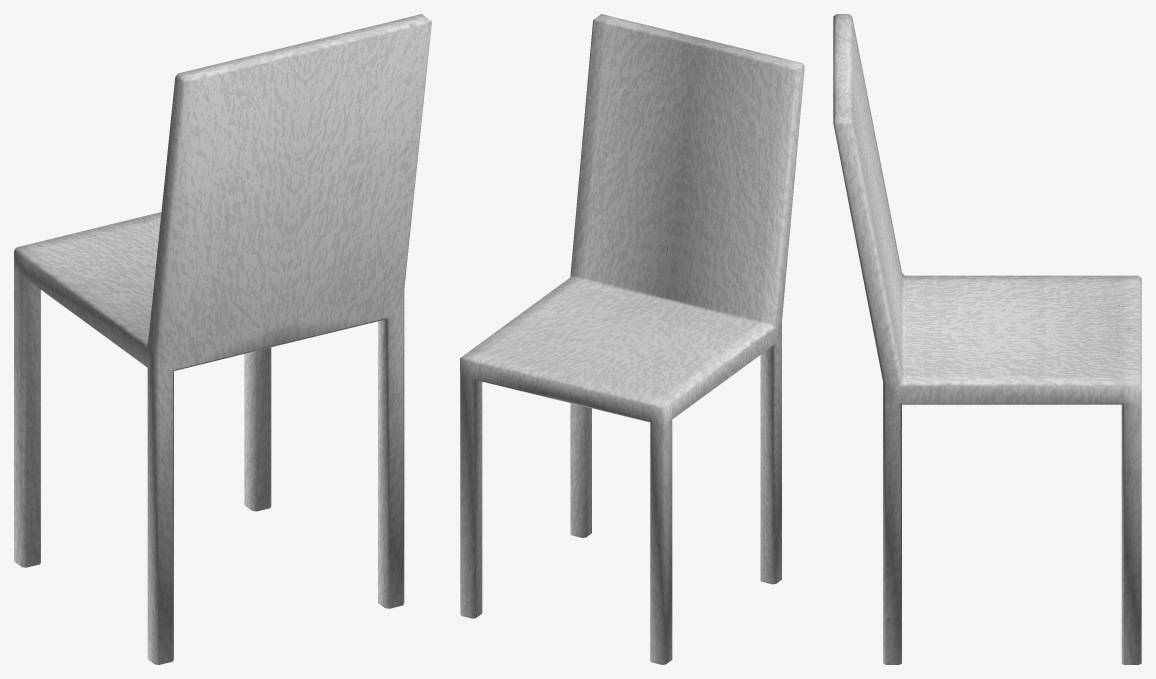
File: Chair01.fbx
3 renders of one model, left to right at view 1: azimuth 30°, elevation 25°; view 2: azimuth 150°, elevation 25°; view 3: azimuth 270°, elevation 25°, orthographic. The views are drawn at different scales.
Parts seen in each view (by area): view 1: ChairMirrored; view 2: ChairMirrored; view 3: ChairMirrored.
Boxes of the visible parts, <box> form: ChairMirrored: <box>14,14,431,664</box>; ChairMirrored: <box>460,14,804,664</box>; ChairMirrored: <box>833,14,1141,664</box>.
Bounding box in the file's own units: 50 × 116 × 59.62.
